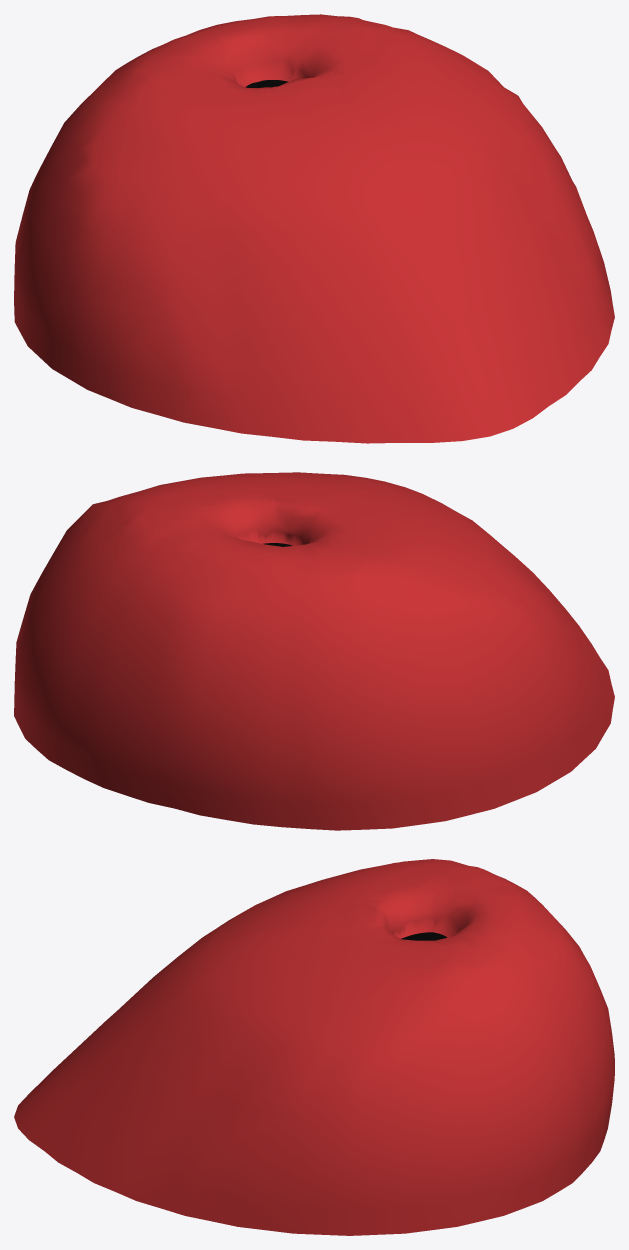
File: hold5.fbx
The picture shows the model from 3 angles, top to bottom: view 1: azimuth 30°, elevation 25°; view 2: azimuth 150°, elevation 25°; view 3: azimuth 270°, elevation 25°; orthographic projection. The views are drawn at different scales.
Visible parts, largest first — view 1: Sphere; view 2: Sphere; view 3: Sphere.
Part boxes in pixels (left/top/right/bottom): Sphere: left=14, top=14, right=614, bottom=443; Sphere: left=14, top=472, right=614, bottom=830; Sphere: left=14, top=859, right=614, bottom=1235.
Size of the model in its own units: 200 by 80.55 by 213.
